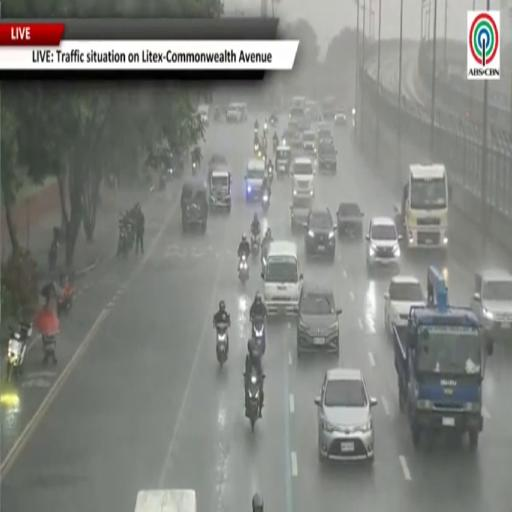car: (315, 368, 377, 462), (297, 282, 341, 357), (471, 269, 511, 341), (384, 276, 425, 335), (366, 217, 401, 269), (304, 208, 336, 261), (181, 178, 208, 233), (209, 166, 232, 212), (291, 156, 315, 197), (337, 202, 363, 237), (245, 158, 266, 201), (291, 197, 312, 231), (318, 140, 337, 173), (227, 103, 247, 122), (282, 128, 300, 149), (303, 131, 317, 155), (322, 96, 336, 120), (318, 122, 333, 143), (209, 154, 227, 170), (198, 104, 209, 126), (334, 108, 347, 125)
motorcycle: (6, 323, 32, 381), (246, 373, 263, 430), (57, 281, 74, 315), (252, 317, 266, 357), (216, 324, 228, 369), (42, 333, 56, 365), (48, 238, 58, 271), (117, 227, 128, 255), (239, 254, 248, 284), (251, 234, 260, 257), (266, 159, 273, 186), (262, 191, 269, 213), (192, 160, 198, 175), (262, 135, 267, 153), (270, 115, 278, 126), (254, 141, 260, 155), (214, 107, 220, 121), (273, 138, 278, 153), (254, 125, 258, 137), (264, 123, 267, 137)
truck: (394, 266, 493, 449), (394, 164, 450, 252), (135, 489, 196, 511)
